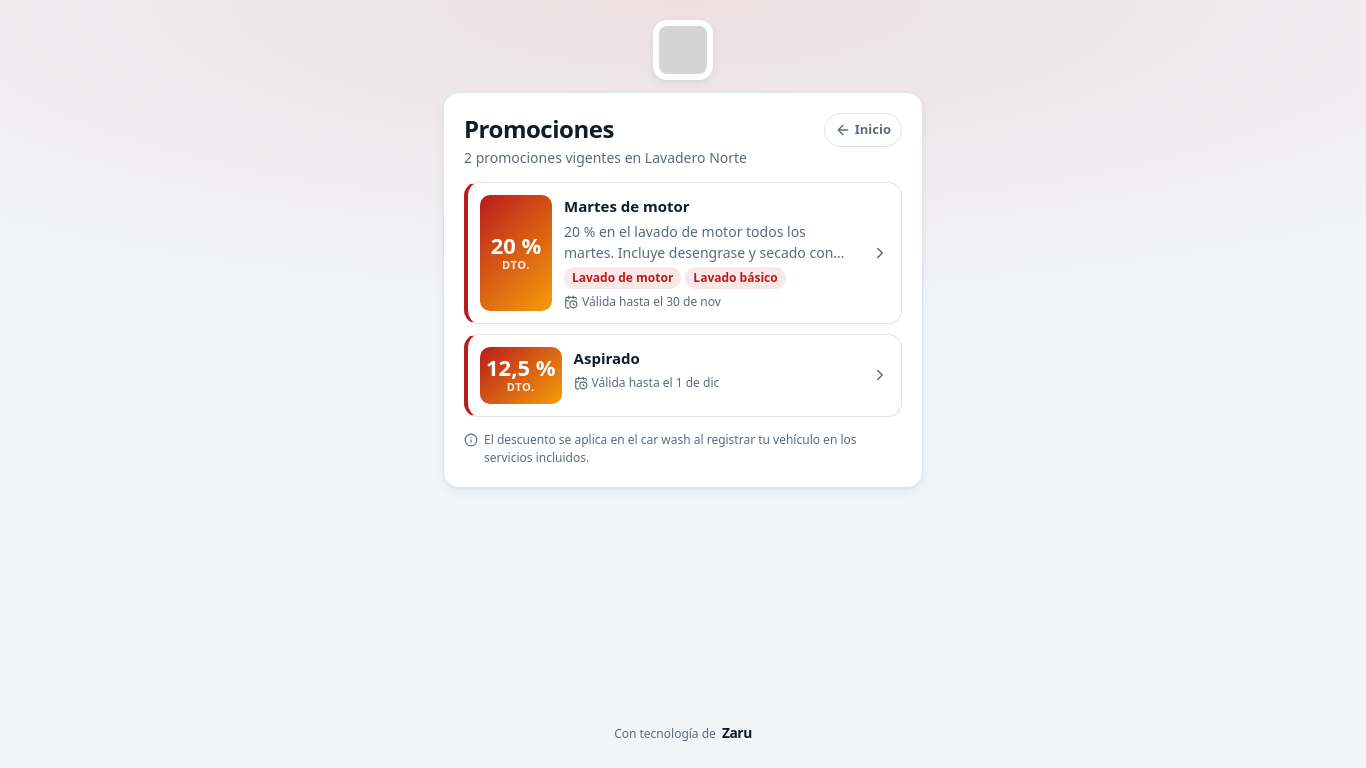
Test: HU-27 · detalle y condiciones de una promoción › CA1: al seleccionar la tarjeta se abre la vista ampliada con la descripción completa y las condiciones
Click the 2nd link. click: x=683, y=253
box: [464,182,902,324]
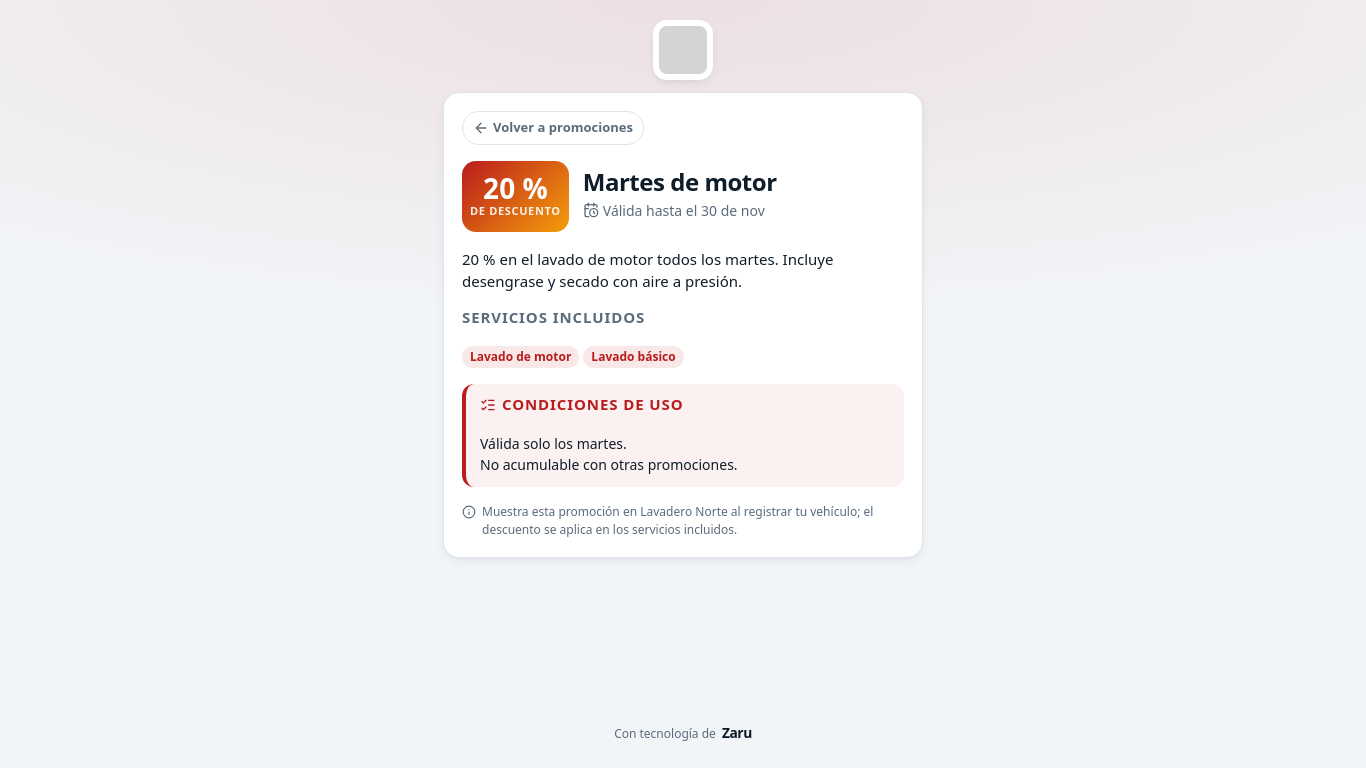
Result: the heading "Condiciones de uso" is shown at [480,394,684,414]
Result: the text "Válida solo los martes. No acumulable con otras promociones." is shown at [480,434,738,474]
Result: the list items read "Lavado de motor", "Lavado básico", in this order at [462,346,579,368]; [583,346,684,368]
